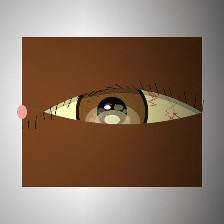corneal_ulcer: (84, 99, 142, 145)
